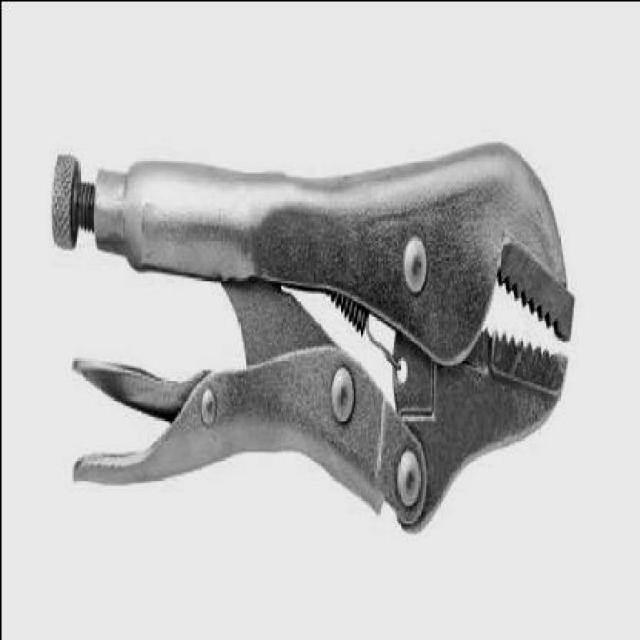pliers: (47, 134, 580, 534)
